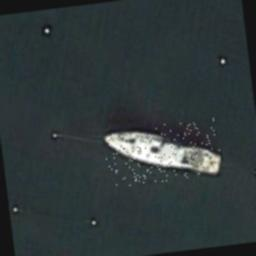boat: (101, 117, 222, 188)
